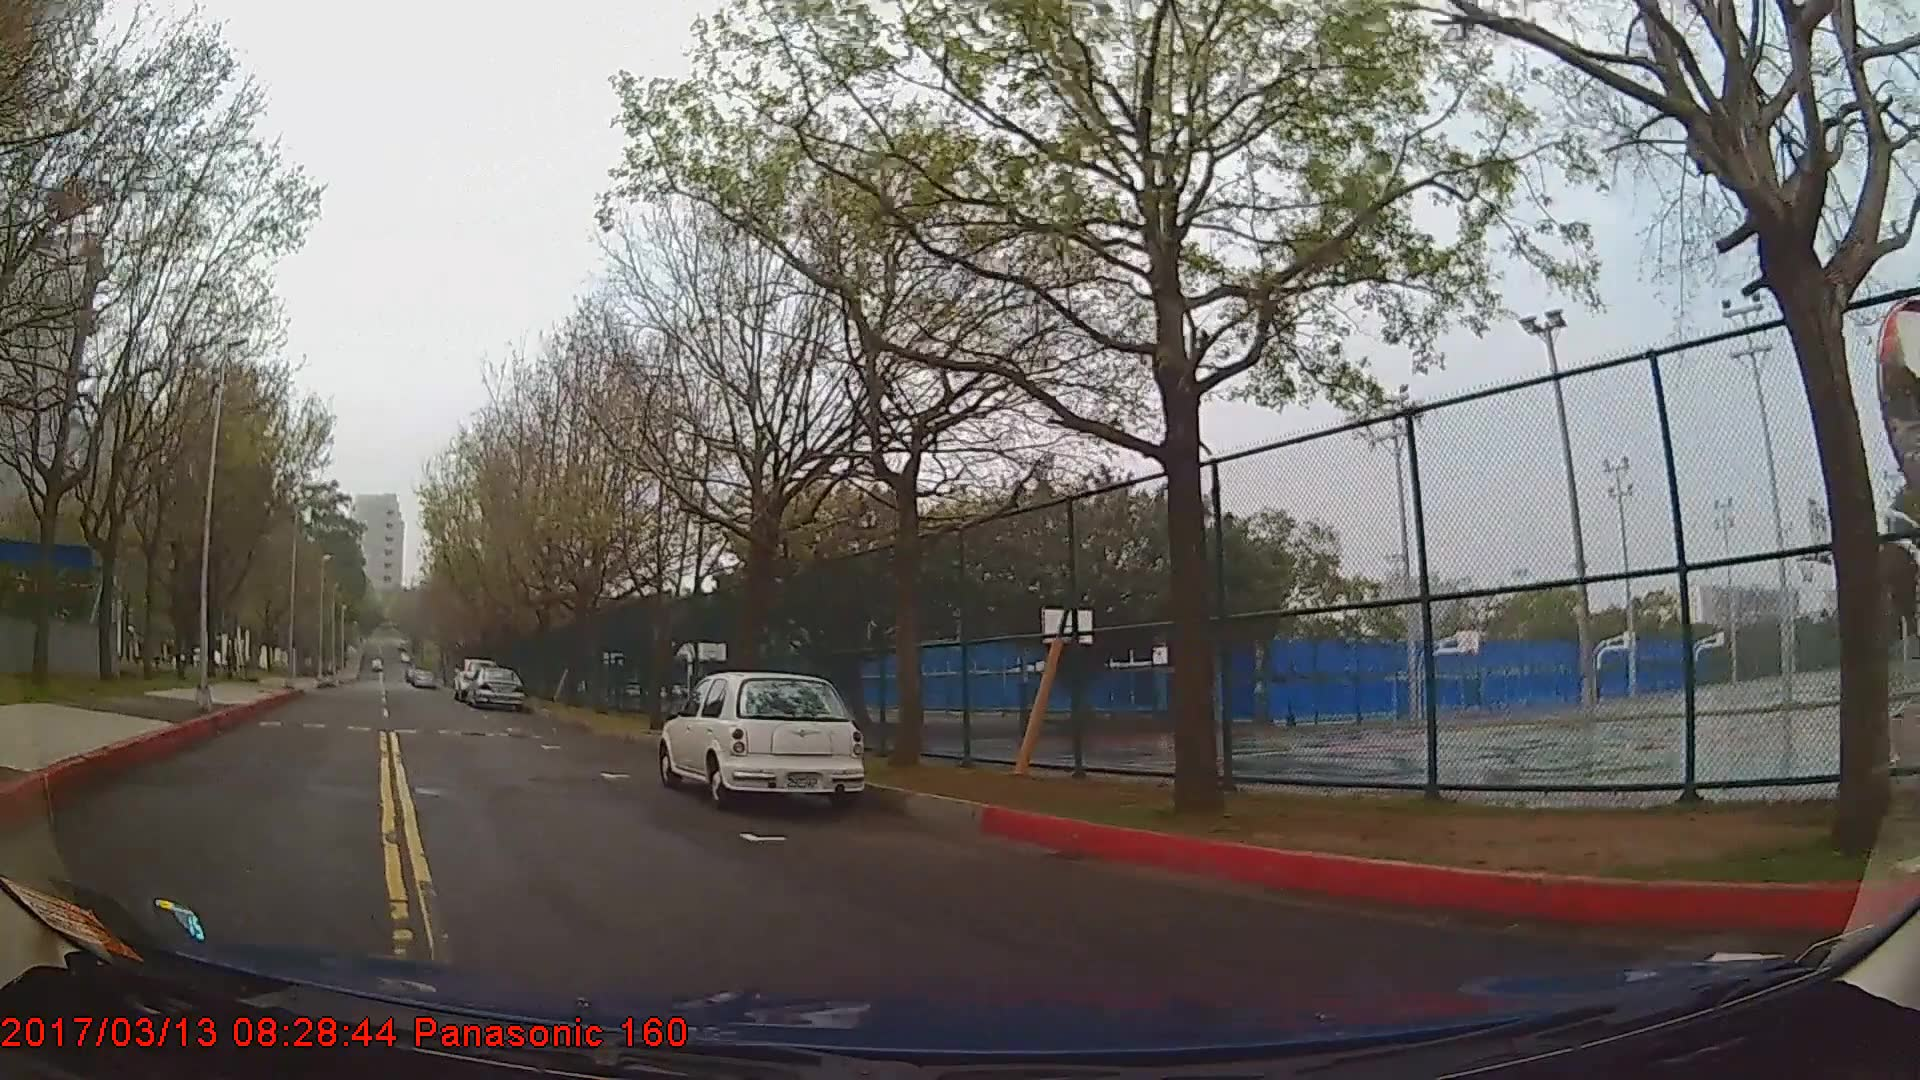vehicle: (655, 669, 865, 806), (462, 663, 522, 705)
